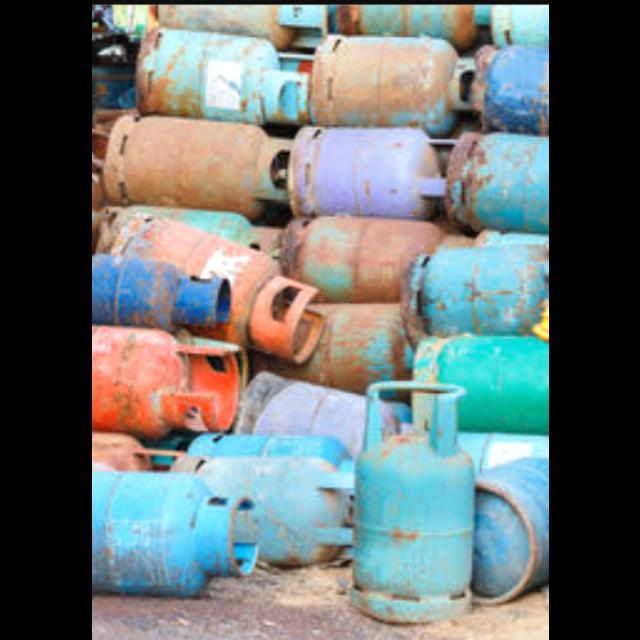Cylinders: (341, 383, 477, 630), (95, 321, 245, 447), (284, 128, 469, 224), (309, 35, 489, 130)
